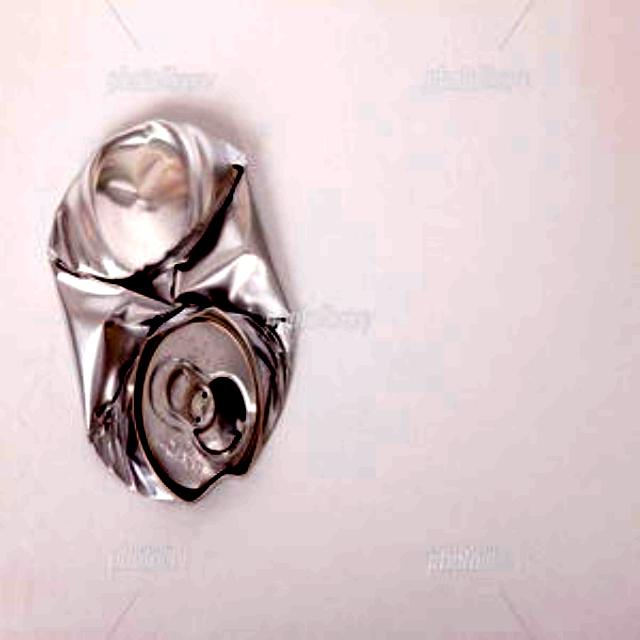Metal: (36, 118, 310, 498)
